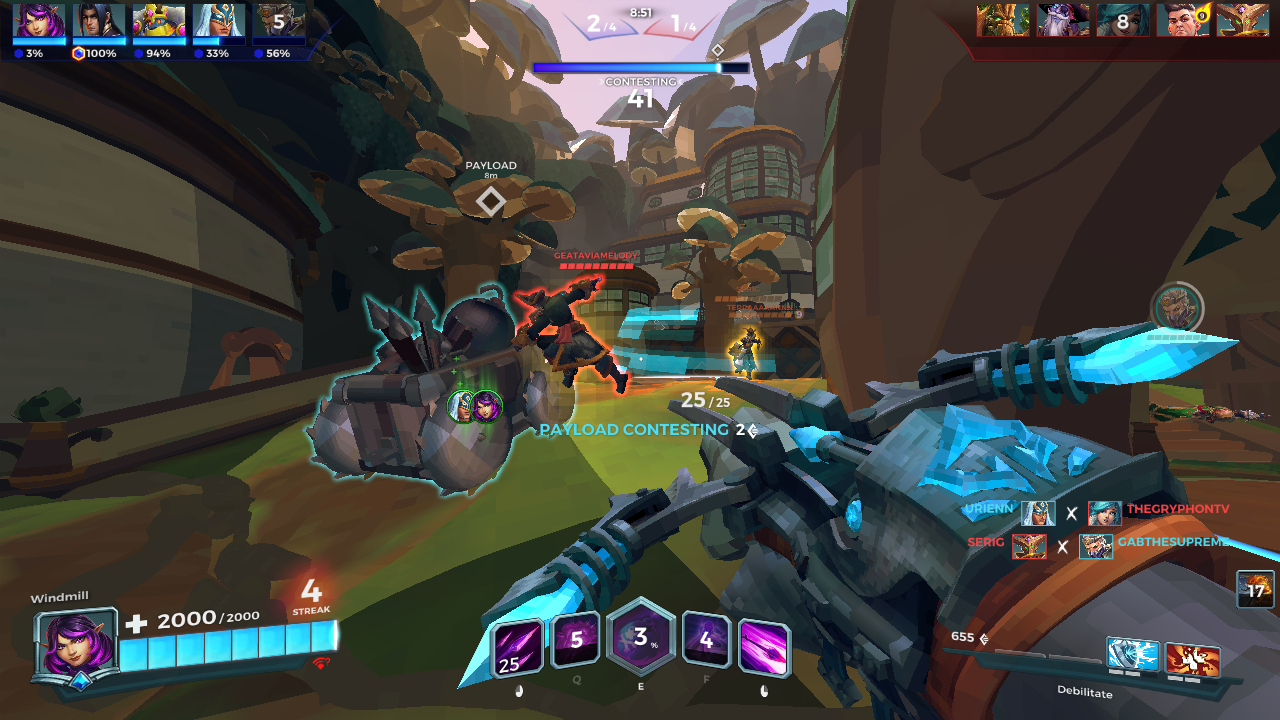model: (508, 277, 630, 394), (742, 324, 760, 377), (727, 339, 743, 378)
